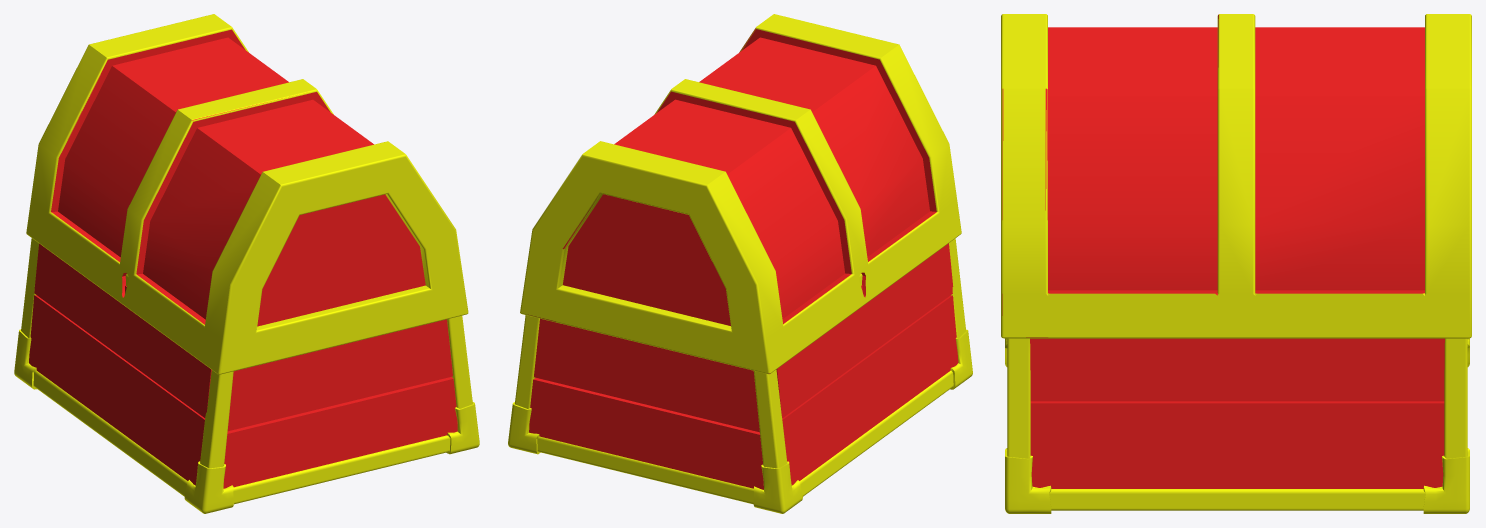
The model's file is chest.fbx.
3 views of the same model, side by side, from view 1: azimuth 30°, elevation 25°; view 2: azimuth 150°, elevation 25°; view 3: azimuth 270°, elevation 25° (orthographic). The views are drawn at different scales.
Visible parts, largest first — view 1: 宝箱_2, 布料曲面_1, 立方体_8, 立方体_7, 立方体_1, 立方体_2; view 2: 宝箱_2, 布料曲面_1, 立方体_5, 立方体_6, 立方体_1, 立方体_2; view 3: 宝箱_2, 立方体_4, 立方体_3, 布料曲面_1.
Part boxes in pixels (x1,y1,x2,y2): 宝箱_2: [26, 14, 468, 374]; 布料曲面_1: [14, 238, 479, 513]; 立方体_8: [223, 377, 457, 488]; 立方体_7: [227, 319, 452, 431]; 立方体_1: [29, 295, 204, 485]; 立方体_2: [34, 243, 211, 417]; 宝箱_2: [520, 14, 961, 374]; 布料曲面_1: [508, 238, 972, 513]; 立方体_5: [529, 378, 763, 489]; 立方体_6: [534, 318, 759, 432]; 立方体_1: [782, 295, 958, 485]; 立方体_2: [776, 243, 953, 417]; 宝箱_2: [1001, 14, 1471, 338]; 立方体_4: [1030, 401, 1444, 488]; 立方体_3: [1030, 338, 1444, 401]; 布料曲面_1: [1005, 338, 1469, 513].
Size of the model in its own units: 71.78 by 77.72 by 86.51.
